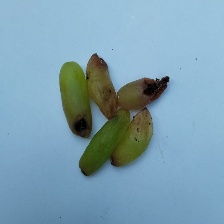grapes: (41, 3, 182, 180)
